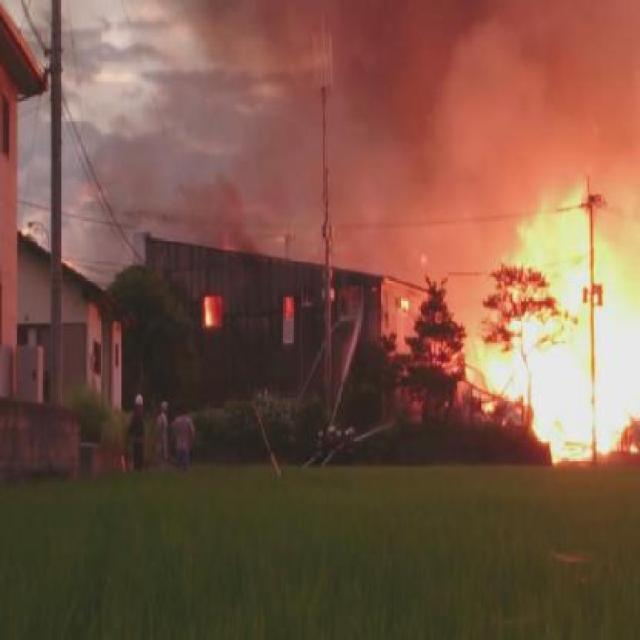Fire: (534, 243, 638, 464), (411, 156, 638, 250), (482, 346, 528, 402), (202, 293, 218, 329), (520, 318, 536, 350), (398, 294, 410, 314)
Smoke: (330, 0, 638, 158), (177, 174, 254, 248)
